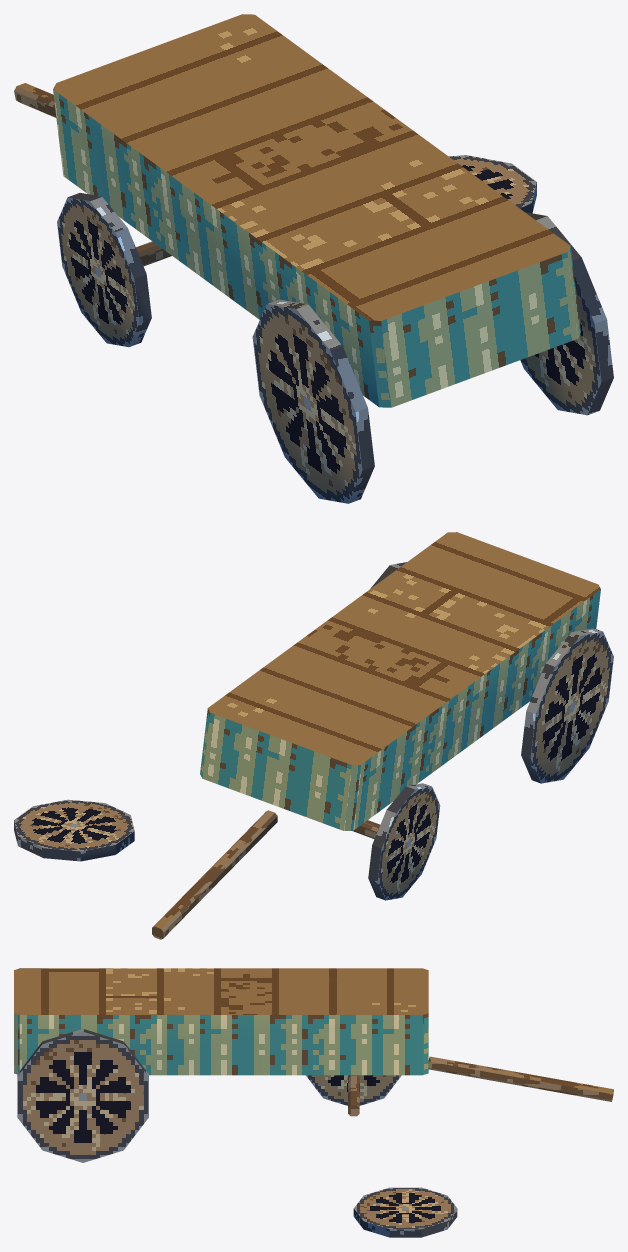
The model's file is wprop.wagon__broken.glb.
3 views of the same model, one above another, from view 1: azimuth 30°, elevation 25°; view 2: azimuth 150°, elevation 25°; view 3: azimuth 270°, elevation 25° (orthographic). The views are drawn at different scales.
Visible parts, largest first — view 1: kit_box, kit_wheels, kit_fallen_wheel, kit_tongue; view 2: kit_box, kit_wheels, kit_fallen_wheel, kit_tongue; view 3: kit_box, kit_wheels, kit_fallen_wheel, kit_tongue, kit_axles.
Boxes of the visible parts, bbox=[...] form: kit_box: bbox=[53, 14, 580, 407]; kit_wheels: bbox=[57, 193, 613, 503]; kit_fallen_wheel: bbox=[449, 155, 536, 213]; kit_tongue: bbox=[14, 83, 56, 117]; kit_box: bbox=[200, 532, 600, 830]; kit_wheels: bbox=[368, 562, 613, 900]; kit_fallen_wheel: bbox=[14, 799, 134, 861]; kit_tongue: bbox=[152, 810, 277, 939]; kit_box: bbox=[14, 968, 428, 1075]; kit_wheels: bbox=[17, 1029, 401, 1162]; kit_fallen_wheel: bbox=[353, 1187, 457, 1237]; kit_tongue: bbox=[428, 1056, 613, 1101]; kit_axles: bbox=[348, 1075, 359, 1116].
Bounding box in the file's own units: 3.08 × 1.47 × 5.21.
5 materials, 5 textured.
